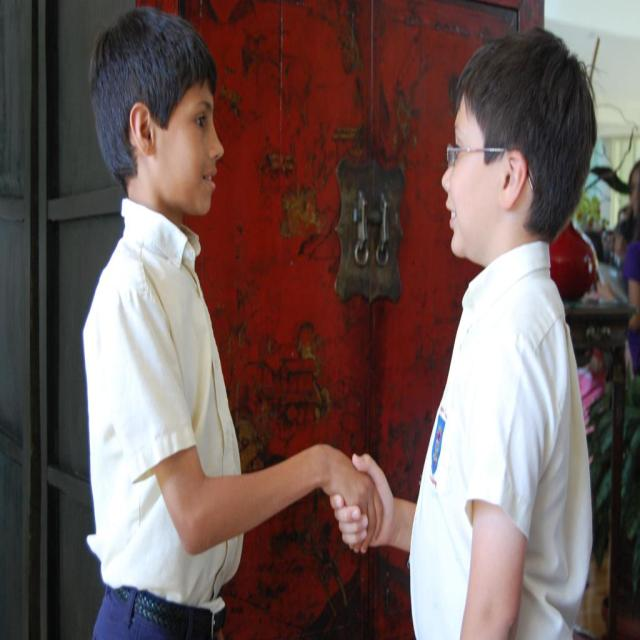Face: (150, 70, 233, 228), (436, 93, 509, 267)
